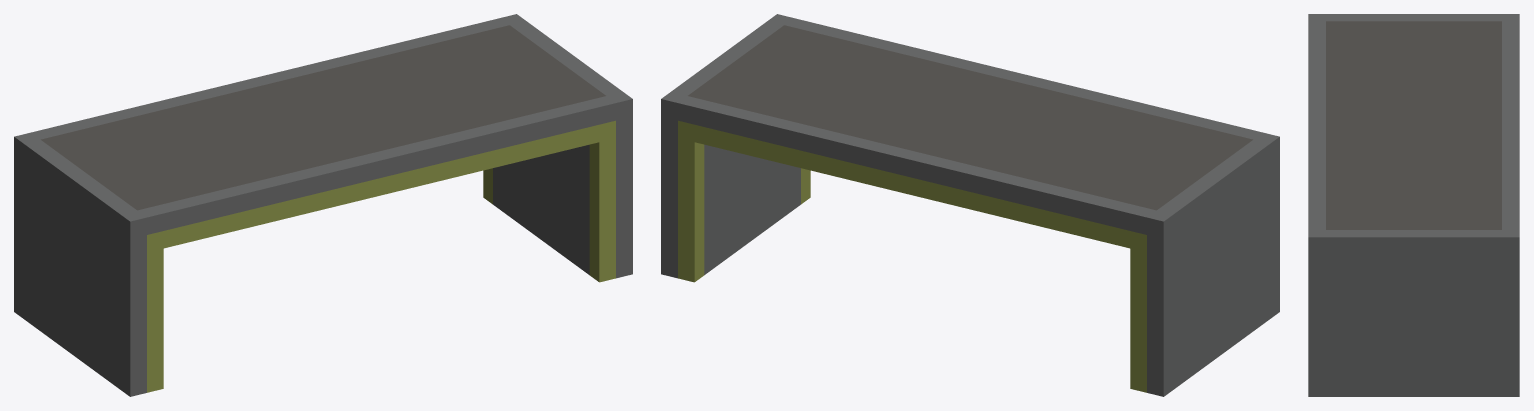
File: desk.obj
3 views of the same model, side by side, from view 1: azimuth 30°, elevation 25°; view 2: azimuth 150°, elevation 25°; view 3: azimuth 270°, elevation 25° (orthographic). The views are drawn at different scales.
Size of the model in its own units: 30 by 10 by 12.
Materials: 1 (1 with a texture image).
